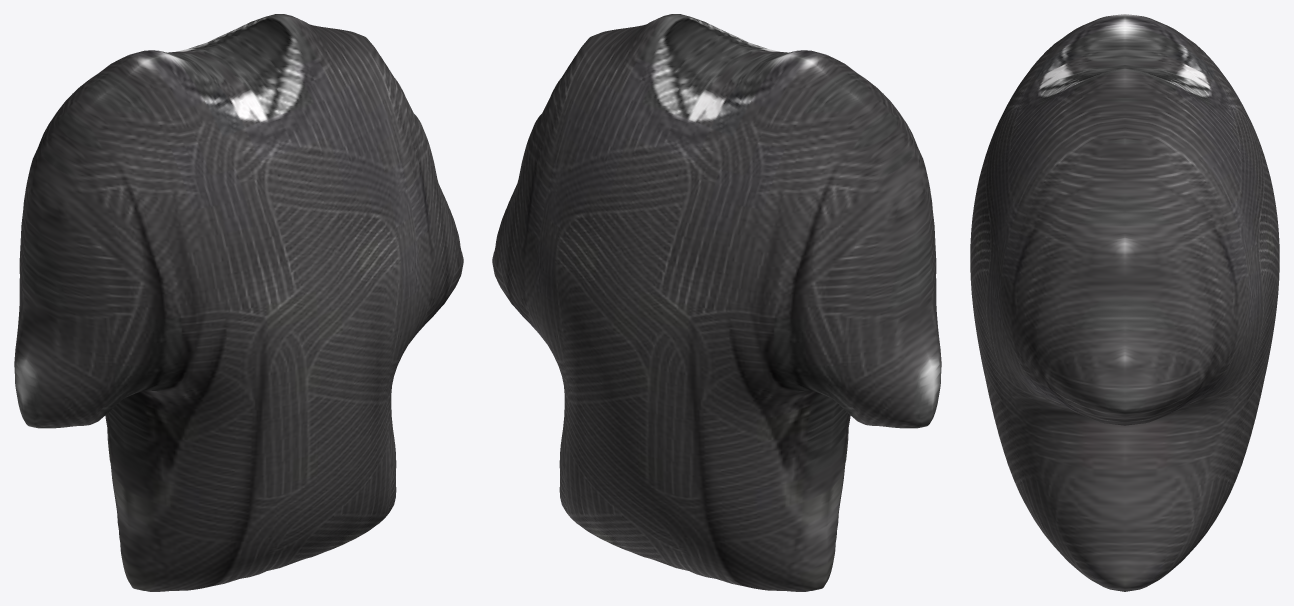
File: AD541D0OJ-Q11@12=cloth_front.glb
3 views of the same model, side by side, from view 1: azimuth 30°, elevation 25°; view 2: azimuth 150°, elevation 25°; view 3: azimuth 270°, elevation 25° (orthographic). The views are drawn at different scales.
Bounding box in the file's own units: 4.62 × 5.48 × 3.04.
1 material, 1 textured.
